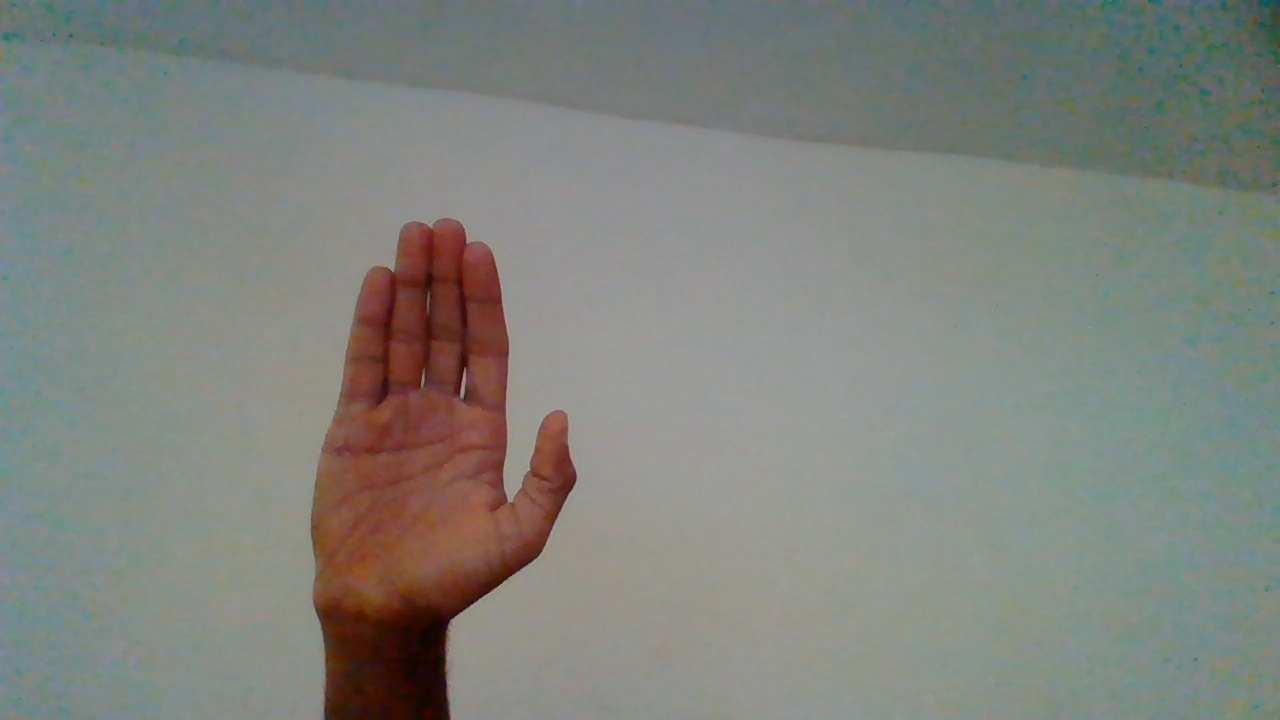ha: (306, 217, 583, 705)
